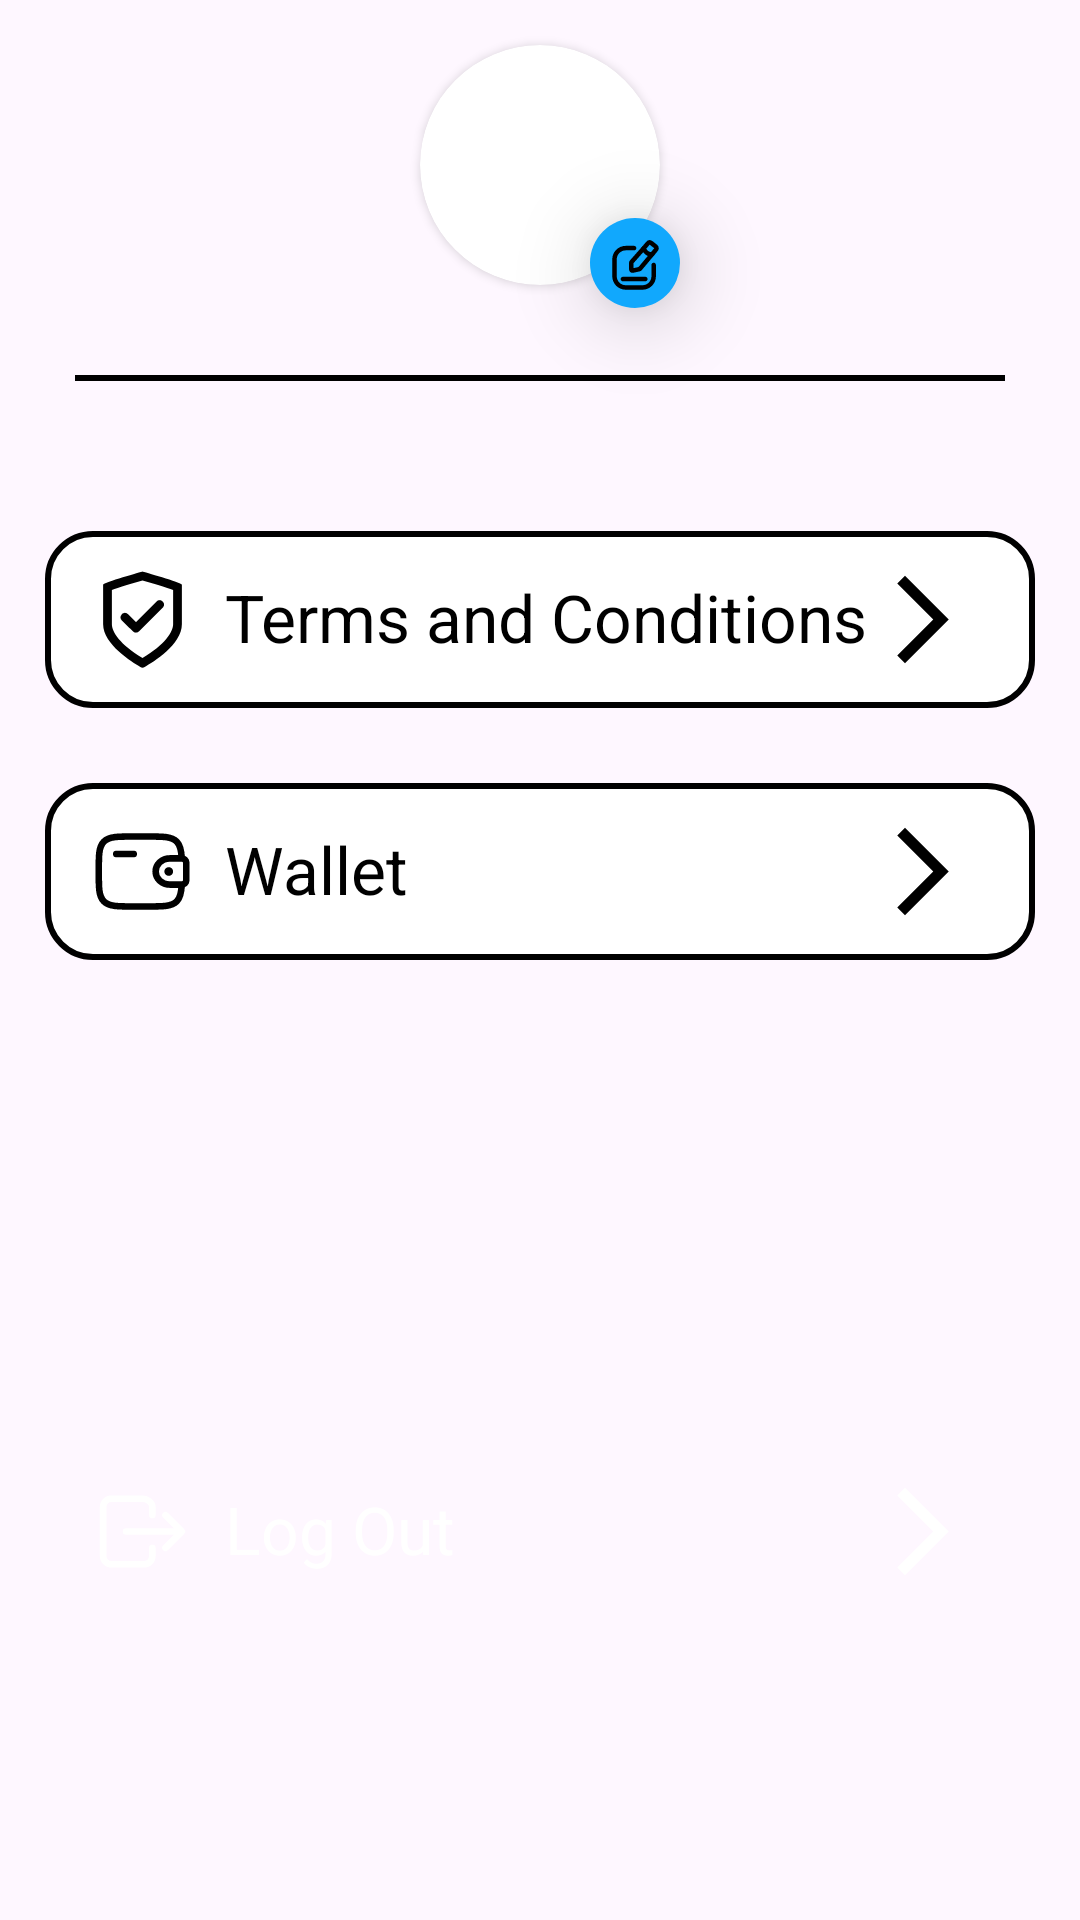

Screen size 1080px x 1920px. Icon name, then its center in pixels as point (x, y):
edit: point (635, 263)
next: point (923, 619), point (923, 871)
security: point (142, 619)
